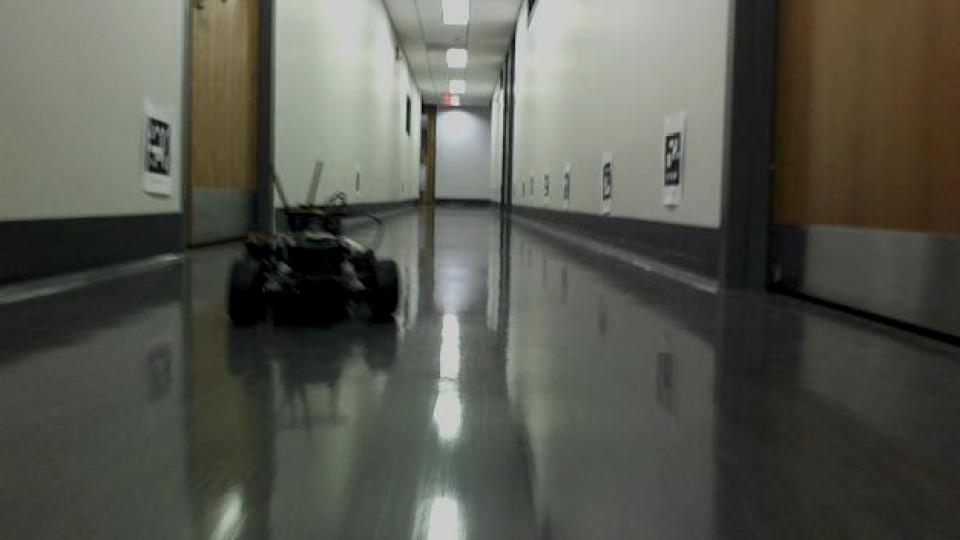car: (225, 158, 405, 327)
